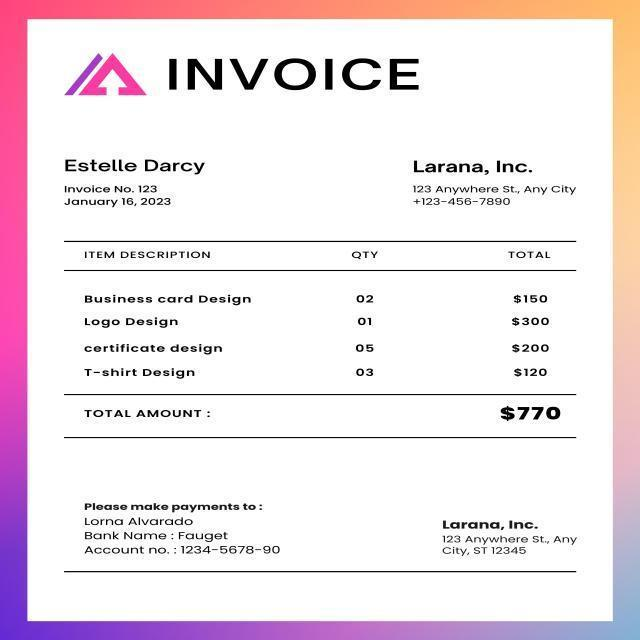paragraph: (68, 484, 284, 561), (73, 405, 575, 432), (159, 55, 431, 103), (399, 145, 580, 217), (48, 147, 219, 219), (433, 497, 587, 563), (49, 42, 152, 111)
table: (61, 235, 592, 390)
